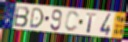4: (99, 13, 112, 37)
9: (50, 9, 63, 31)
B: (13, 5, 31, 28)
C: (63, 10, 80, 33)
D: (29, 7, 45, 29)
T: (86, 12, 98, 34)
